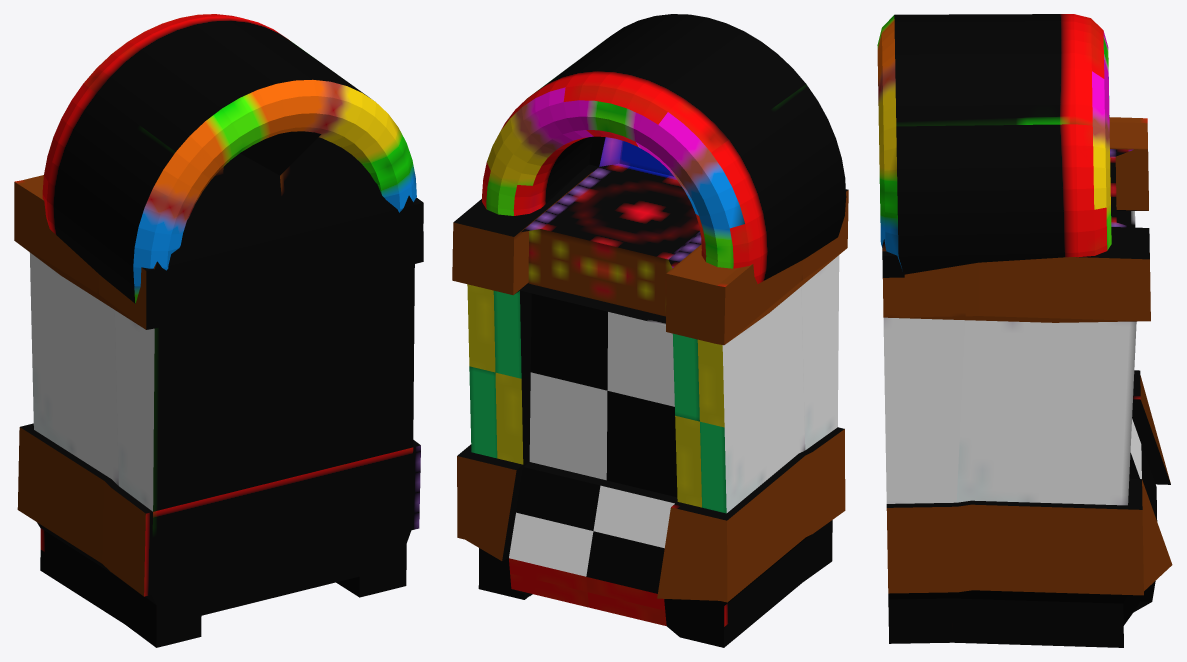
The model's file is juke.obj.
The picture shows the model from 3 angles, left to right: view 1: azimuth 30°, elevation 25°; view 2: azimuth 150°, elevation 25°; view 3: azimuth 270°, elevation 25°; orthographic projection. The views are drawn at different scales.
Visible parts, largest first — view 1: Piano; view 2: Piano; view 3: Piano.
Part boxes in pixels (<box>): Piano: <box>14,14,423,647</box>; Piano: <box>452,14,848,647</box>; Piano: <box>877,14,1172,647</box>.
Bounding box in the file's own units: 1.09 × 1.96 × 0.9427.
